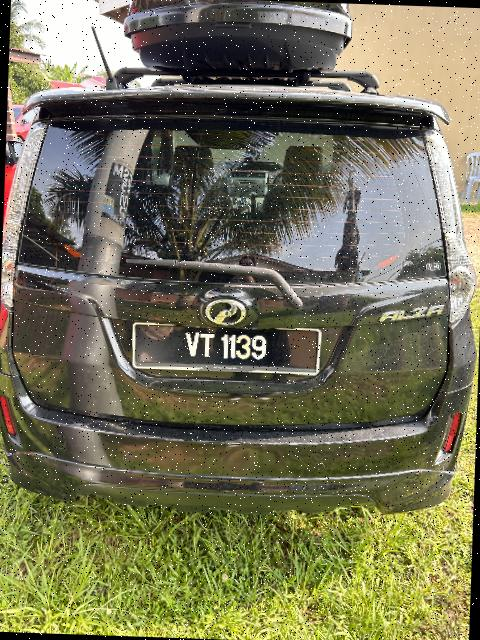License_Plate: (129, 321, 326, 382)
car: (1, 77, 480, 523)
